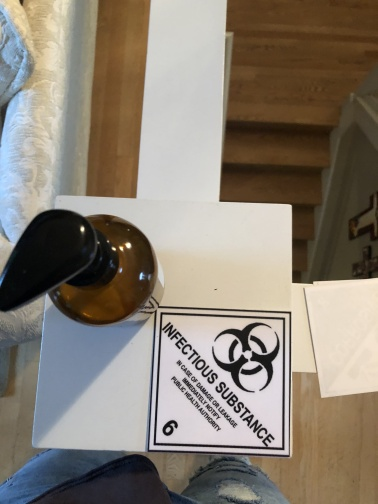InfectiousSubstance: (145, 304, 292, 456)
